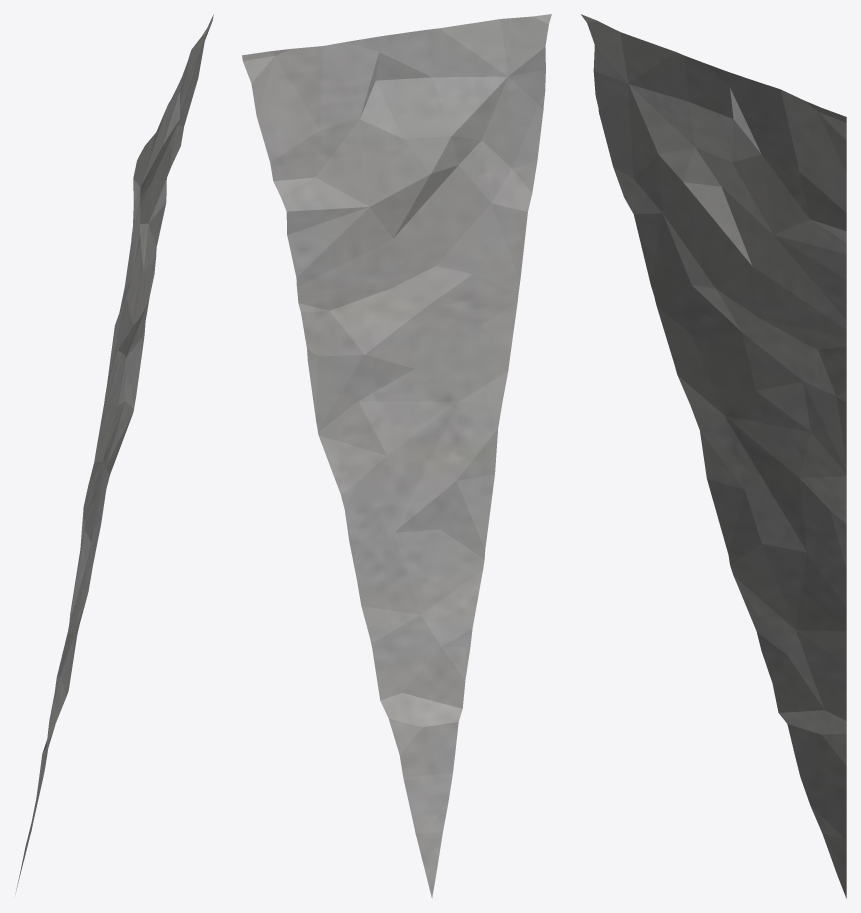
3 renders of one model, left to right at view 1: azimuth 30°, elevation 25°; view 2: azimuth 150°, elevation 25°; view 3: azimuth 270°, elevation 25°, orthographic. The views are drawn at different scales.
Bounding box in the file's own units: 0.1373 × 0.5505 × 0.15.
Materials: 1 (1 with a texture image).
